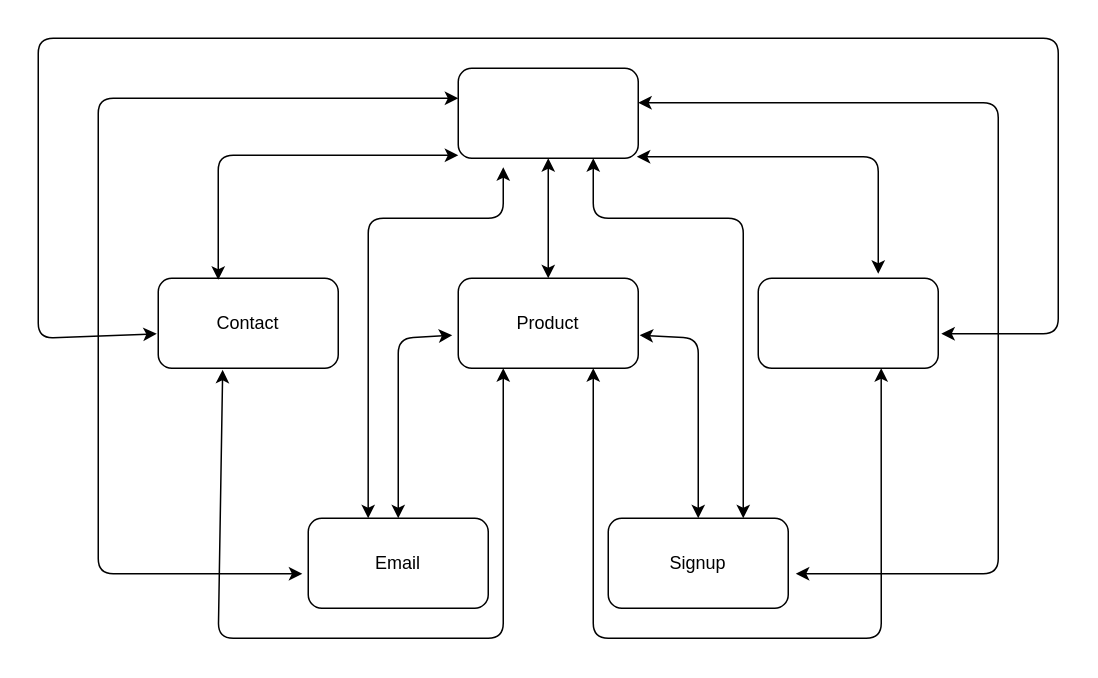
The diagram is 1098 pixels wide and 678 high, and some of its shapes have lost their labels. Each missing label, with the box of its shape:
About: (757, 277, 938, 368)
Index: (457, 67, 638, 158)
